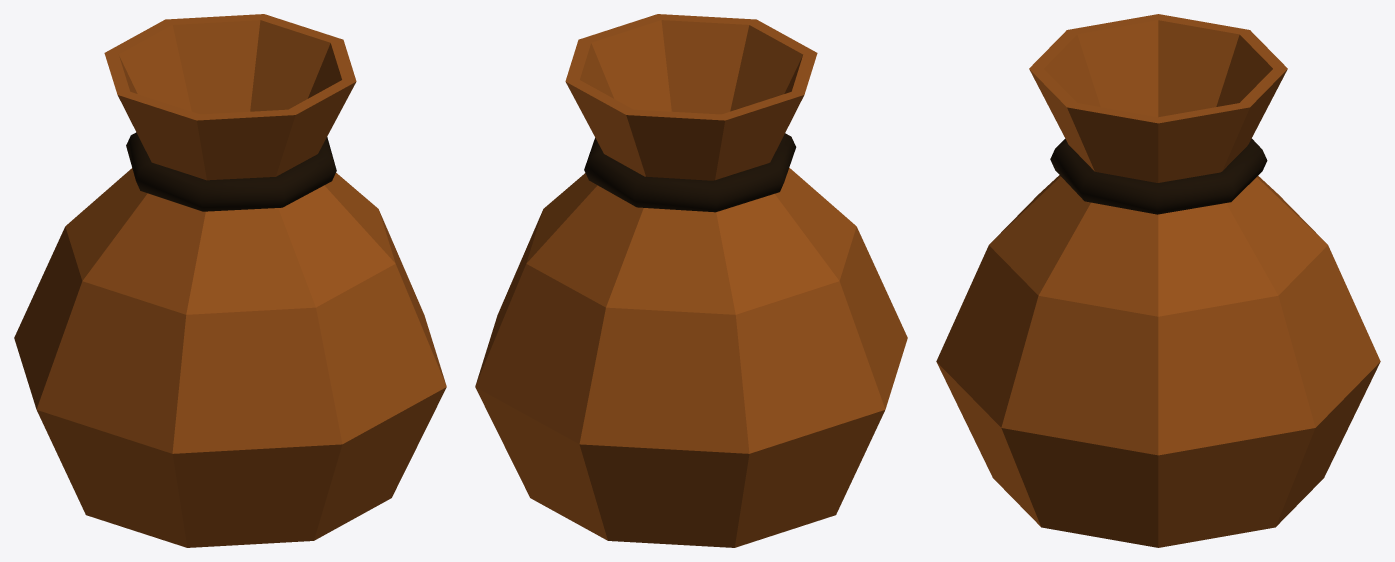
File: МешочекМонеток.FBX
The picture shows the model from 3 angles, left to right: view 1: azimuth 30°, elevation 25°; view 2: azimuth 150°, elevation 25°; view 3: azimuth 270°, elevation 25°; orthographic projection.
Visible parts, largest first — view 1: Cylinder002; view 2: Cylinder002; view 3: Cylinder002.
Boxes of the visible parts, <box> form: Cylinder002: <box>14,14,446,547</box>; Cylinder002: <box>475,14,907,547</box>; Cylinder002: <box>936,14,1380,547</box>.
Bounding box in the file's own units: 65.46 × 66.52 × 65.46.
